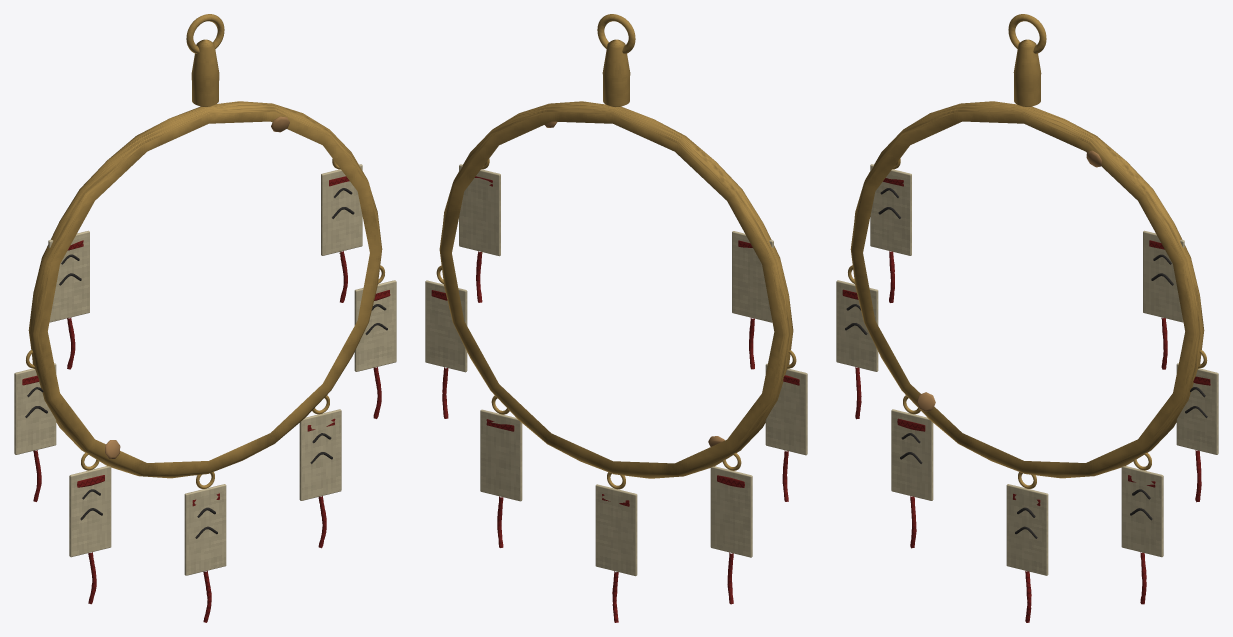
File: talisman-array.lod1.glb
3 renders of one model, left to right at view 1: azimuth 30°, elevation 25°; view 2: azimuth 150°, elevation 25°; view 3: azimuth 330°, elevation 25°, orthographic.
Visible parts, largest first — view 1: brass / polished brass furniture, paper / paper and vellum, cloth / canvas webbing, leather / oiled leather wrap; view 2: brass / polished brass furniture, paper / paper and vellum, cloth / canvas webbing; view 3: brass / polished brass furniture, paper / paper and vellum, cloth / canvas webbing, leather / oiled leather wrap.
Boxes of the visible parts, x1,y1,x2,y2 form: brass / polished brass furniture: [26, 14, 384, 488]; paper / paper and vellum: [14, 164, 396, 575]; cloth / canvas webbing: [22, 176, 390, 622]; leather / oiled leather wrap: [25, 188, 387, 538]; brass / polished brass furniture: [436, 14, 796, 489]; paper / paper and vellum: [425, 164, 807, 576]; cloth / canvas webbing: [431, 176, 799, 622]; brass / polished brass furniture: [848, 14, 1207, 488]; paper / paper and vellum: [836, 164, 1218, 575]; cloth / canvas webbing: [842, 178, 1210, 622]; leather / oiled leather wrap: [845, 188, 1207, 538].
Bounding box in the file's own units: 0.3905 × 0.5948 × 0.0245.
Materials: 6 (4 with a texture image).
